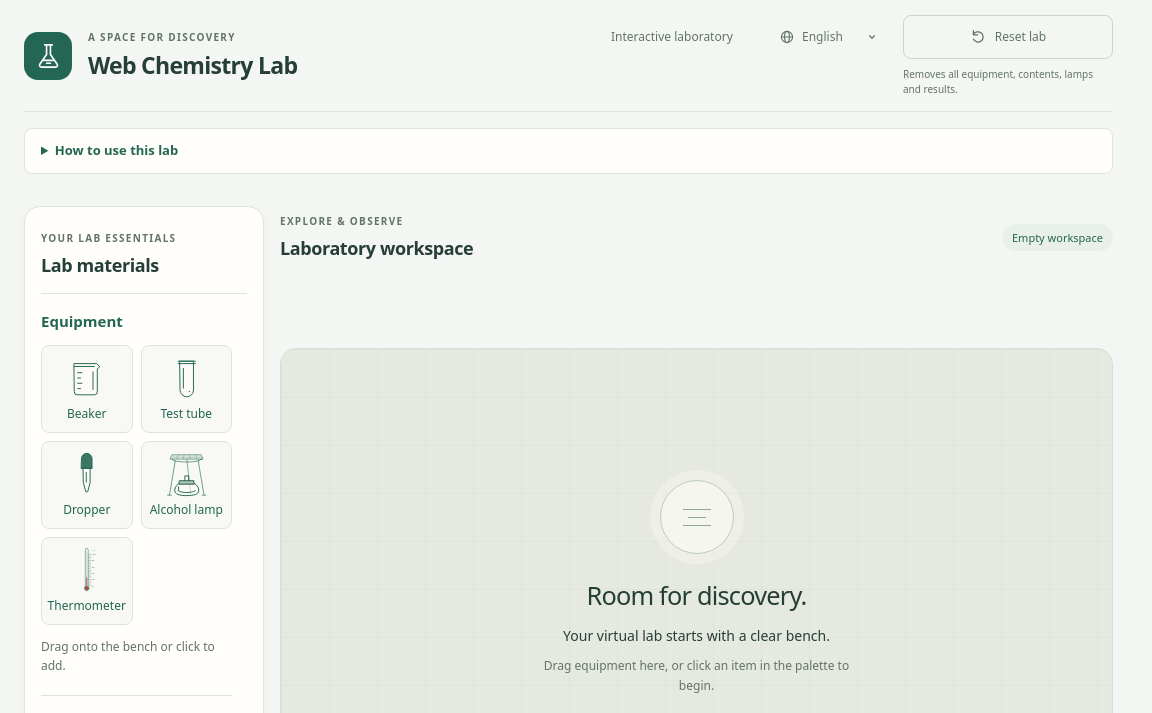
M7 teaching workflow › explains qualitative Dropper transfer without treating the tool as a mixing container
Click the button with aria-label "Add Dropper".
click(87, 484)  # box [41,440,132,528]
(page scrolled)
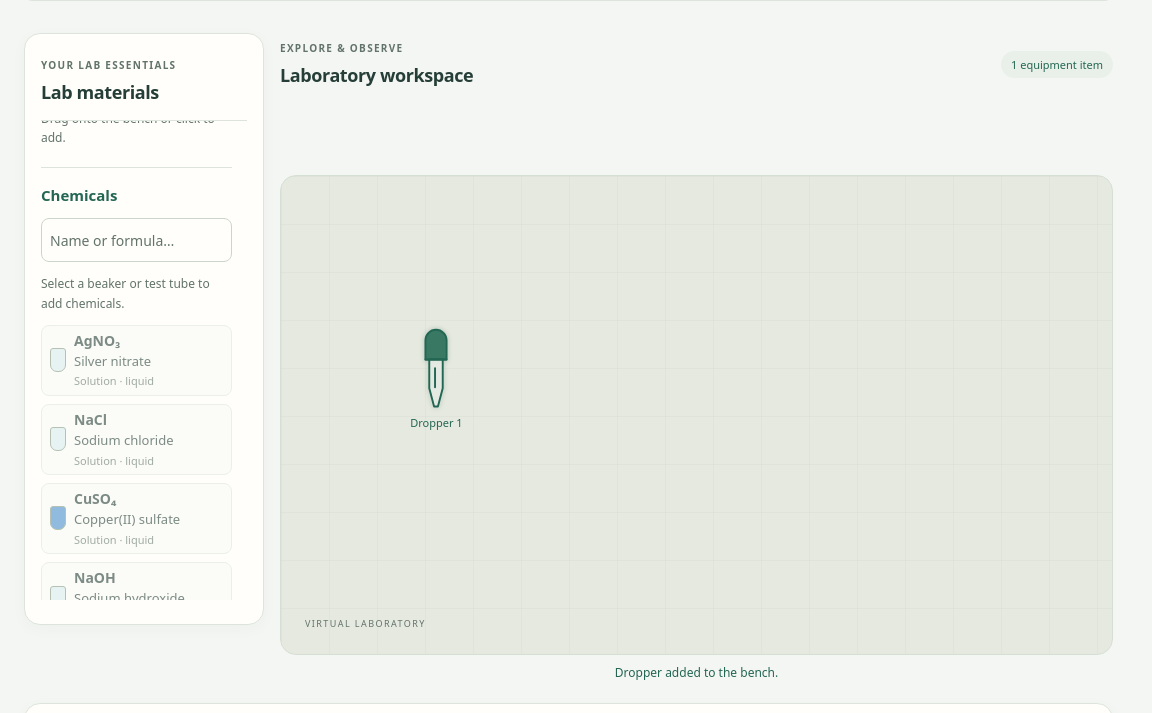
Result: the button with aria-label "Add Silver nitrate" is disabled at [41,325,232,396]
